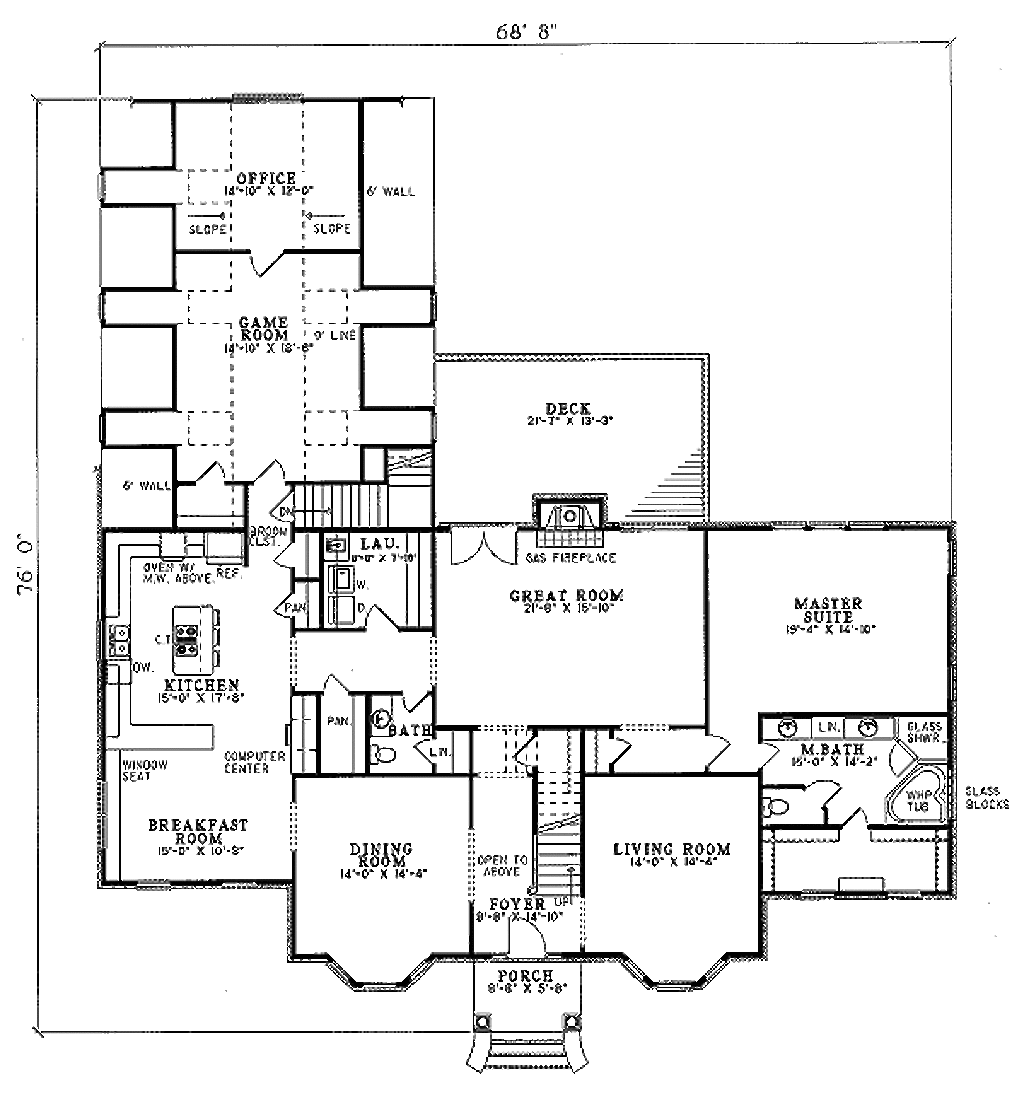door: (446, 520, 518, 570), (503, 915, 550, 955), (798, 770, 844, 809), (361, 599, 404, 639), (247, 243, 288, 281), (885, 738, 915, 780), (701, 730, 735, 766), (606, 727, 637, 765), (250, 458, 288, 486), (193, 460, 231, 485), (756, 737, 780, 771), (320, 673, 355, 693)
kitchen_bar: (165, 603, 229, 684)
large_sink: (757, 786, 795, 828), (368, 740, 402, 770)
small_sink: (367, 694, 404, 741), (759, 713, 810, 743), (840, 717, 899, 739)
stairs: (290, 478, 399, 533)
tub: (890, 766, 949, 825)
twin_sink: (107, 621, 143, 668)
window: (309, 959, 439, 991), (766, 515, 895, 534), (95, 781, 117, 859), (651, 979, 703, 996)
